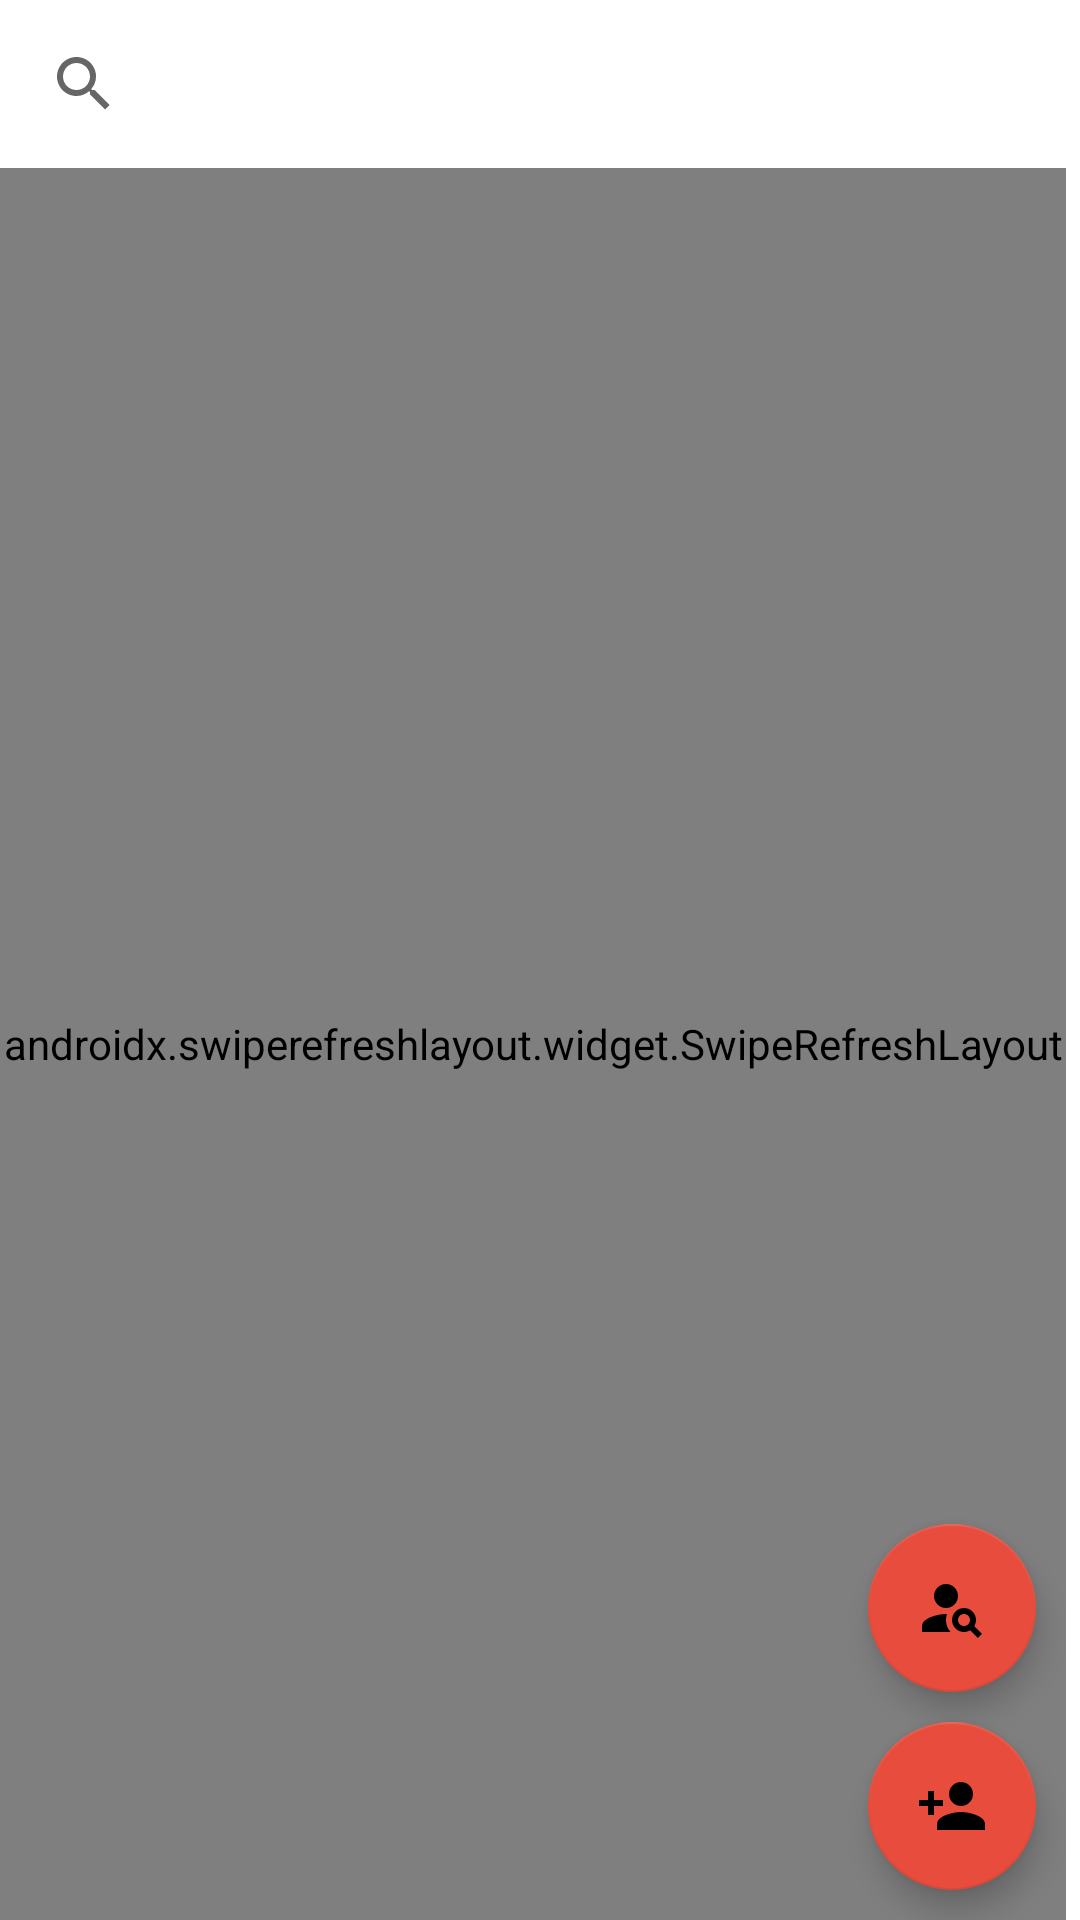

Icon click points for this 1080×1920 phone screenshot, format (x=x, y=y):
person add: (x=952, y=1806)
person search: (x=952, y=1608)
